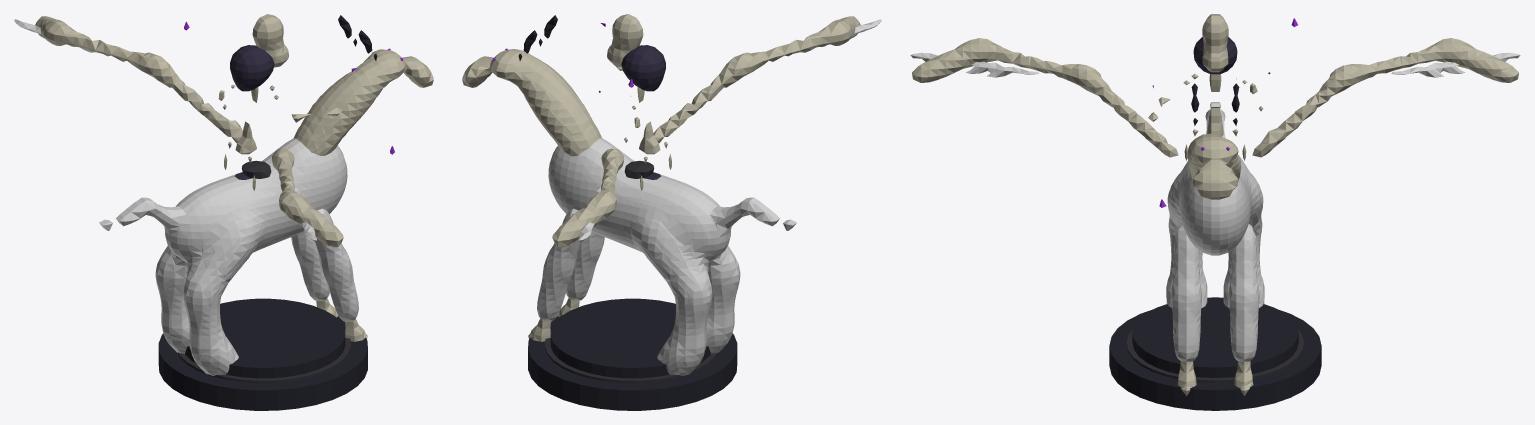
The model's file is griffon_cavalier_maudit_v2.obj.
3 views of the same model, side by side, from view 1: azimuth 30°, elevation 25°; view 2: azimuth 150°, elevation 25°; view 3: azimuth 270°, elevation 25° (orthographic).
Size of the model in its own units: 1.33 by 1.36 by 2.13.
